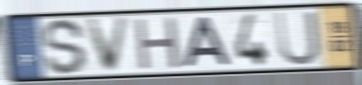4: (234, 12, 272, 68)
A: (179, 15, 235, 69)
H: (132, 15, 183, 72)
S: (40, 17, 89, 77)
U: (272, 9, 322, 68)
V: (84, 15, 133, 75)
